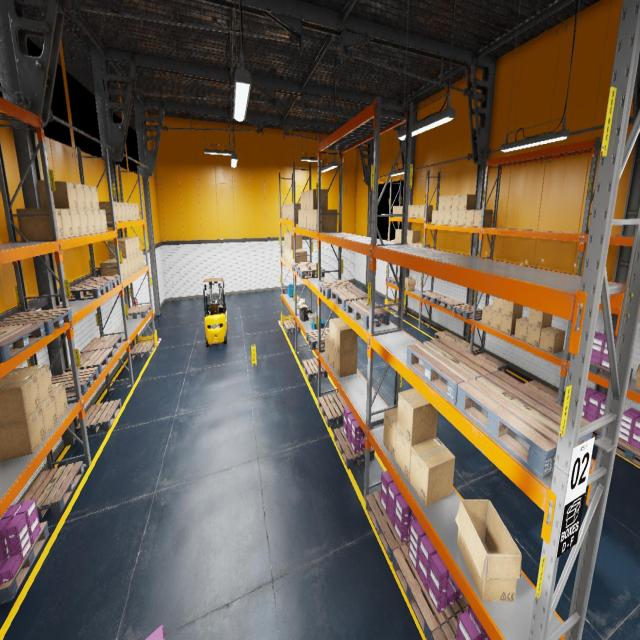box: (455, 499, 521, 602), (410, 437, 455, 506), (0, 407, 46, 461), (397, 388, 438, 446), (0, 364, 53, 406), (395, 427, 436, 481), (0, 374, 41, 426), (16, 208, 63, 240), (37, 180, 78, 209), (334, 323, 358, 354), (383, 407, 397, 460), (539, 326, 565, 354), (41, 394, 58, 436), (334, 347, 357, 377), (52, 382, 68, 421), (526, 324, 549, 347), (100, 260, 124, 280), (528, 308, 552, 328), (329, 318, 345, 347), (500, 314, 522, 335), (105, 258, 128, 278), (317, 210, 337, 232), (108, 240, 130, 258), (99, 202, 118, 222), (113, 238, 134, 256), (60, 209, 73, 238), (514, 317, 529, 342), (310, 189, 328, 209), (502, 299, 522, 317), (121, 236, 140, 253), (473, 210, 492, 227), (118, 238, 137, 254), (70, 210, 81, 236), (75, 183, 86, 209), (78, 210, 89, 235), (459, 194, 476, 210), (83, 184, 93, 209), (481, 305, 492, 326), (86, 210, 96, 233), (491, 311, 502, 330), (90, 186, 99, 209), (93, 210, 102, 233), (289, 234, 302, 249), (492, 296, 503, 313), (419, 205, 433, 218), (294, 250, 307, 263), (291, 249, 304, 262), (100, 210, 107, 232), (408, 230, 420, 242), (465, 210, 474, 226), (457, 210, 466, 226), (329, 341, 334, 369), (288, 234, 298, 248), (286, 233, 296, 247), (284, 232, 294, 246), (635, 364, 640, 391), (405, 277, 415, 290), (399, 229, 409, 241), (293, 203, 300, 220), (116, 202, 122, 221), (120, 202, 126, 221), (325, 334, 329, 362), (451, 210, 458, 226), (452, 194, 459, 210), (438, 196, 446, 210), (445, 195, 452, 210), (128, 203, 134, 220), (127, 256, 132, 276), (444, 210, 451, 224), (431, 210, 438, 224), (125, 202, 130, 220), (134, 253, 139, 270), (407, 230, 414, 242), (438, 210, 444, 224), (313, 210, 317, 230), (306, 210, 310, 229), (306, 190, 310, 209), (131, 256, 135, 274), (132, 203, 136, 220), (135, 203, 139, 220), (414, 205, 419, 218), (138, 252, 142, 268), (140, 251, 144, 267), (310, 210, 313, 230), (395, 229, 400, 241), (396, 206, 401, 217), (392, 206, 397, 217), (410, 205, 414, 218), (298, 210, 301, 227), (298, 298, 305, 305), (304, 191, 306, 210), (301, 192, 303, 210), (304, 210, 306, 228), (301, 210, 303, 228), (290, 204, 292, 219), (289, 204, 291, 219), (290, 248, 292, 263), (287, 204, 289, 218), (284, 245, 286, 259), (285, 205, 287, 218), (282, 205, 284, 218), (286, 247, 288, 260), (417, 244, 430, 246), (294, 297, 299, 302), (296, 303, 302, 307), (400, 206, 402, 217), (288, 248, 289, 262), (283, 244, 284, 258), (284, 205, 285, 218), (408, 205, 409, 218)
forklift: (203, 277, 227, 347)
pallets: (456, 371, 593, 478), (392, 542, 468, 640), (406, 337, 498, 404), (0, 521, 49, 604), (20, 461, 84, 519), (366, 489, 408, 562), (0, 308, 73, 337), (0, 322, 45, 362), (76, 399, 121, 437), (334, 427, 374, 469), (51, 367, 99, 398), (346, 298, 390, 329), (65, 348, 114, 373), (432, 605, 468, 639), (318, 392, 348, 427), (524, 380, 564, 406), (60, 282, 110, 302), (589, 361, 633, 380), (331, 287, 367, 310), (80, 334, 123, 353), (616, 438, 640, 467), (319, 280, 356, 298), (475, 353, 507, 372), (302, 358, 328, 381), (78, 276, 120, 290), (306, 328, 329, 350), (130, 340, 155, 360), (581, 416, 601, 439), (452, 304, 482, 319), (452, 340, 479, 355), (126, 304, 152, 319), (436, 297, 464, 310), (296, 266, 325, 278), (421, 292, 446, 304), (434, 331, 462, 341), (291, 262, 316, 273), (283, 320, 301, 333), (388, 305, 407, 315), (388, 278, 404, 286)
